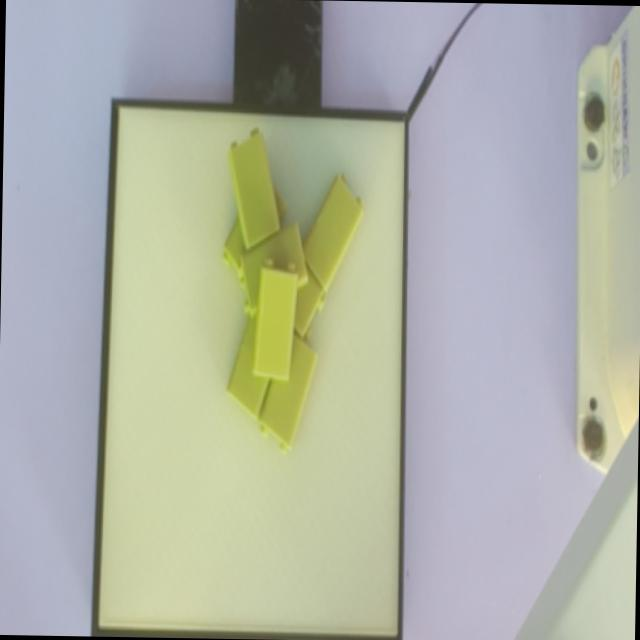bateria: (226, 127, 280, 249), (252, 259, 297, 382)
mesa: (91, 96, 408, 640)
